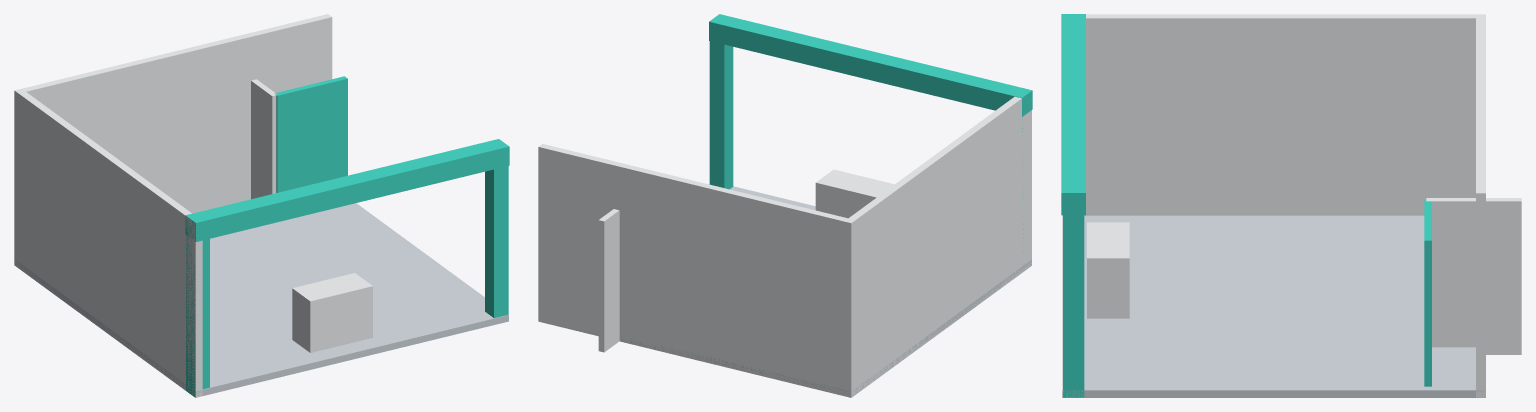
3 renders of one model, left to right at view 1: azimuth 30°, elevation 25°; view 2: azimuth 150°, elevation 25°; view 3: azimuth 270°, elevation 25°, orthographic. The views are drawn at different scales.
Visible parts, largest first — view 1: Exhibition Booth Concept; view 2: Exhibition Booth Concept; view 3: Exhibition Booth Concept.
Boxes of the visible parts, x1,y1,x2,y2 form: Exhibition Booth Concept: [14, 14, 509, 397]; Exhibition Booth Concept: [538, 14, 1032, 397]; Exhibition Booth Concept: [1061, 14, 1521, 397].
Size of the model in its own units: 6 by 3.2 by 6.52.
